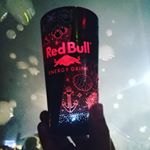cups: (37, 5, 104, 128)
